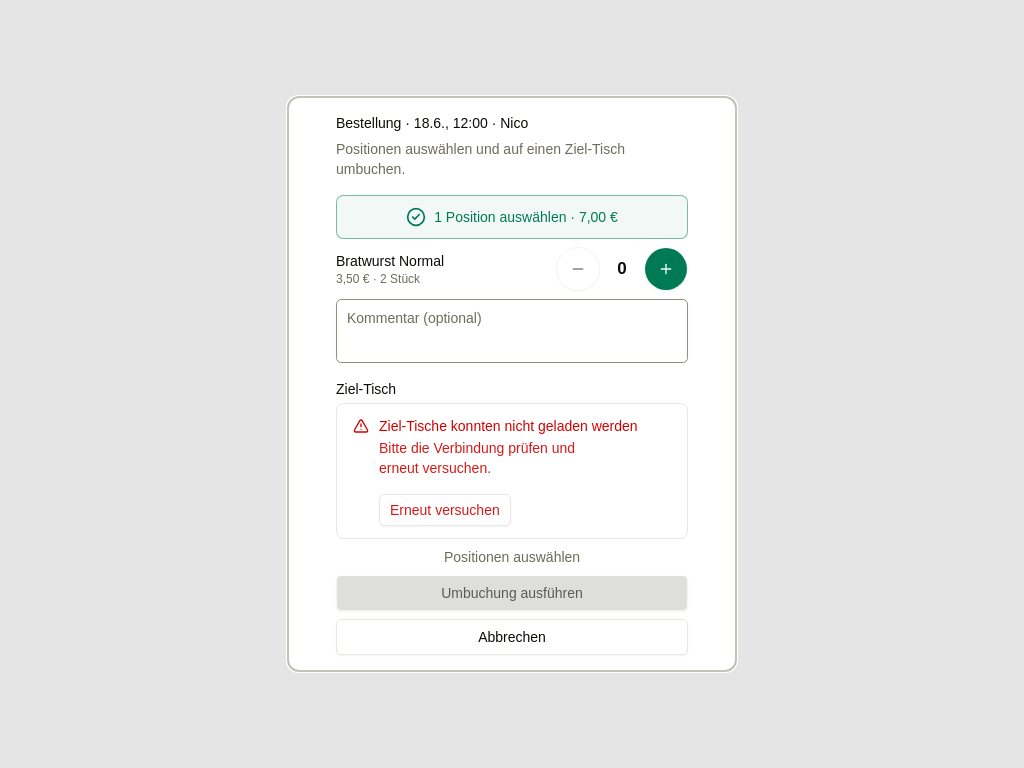
HistorieUmbuchungDrawer bei Ladefehler der Ziel-Tische › lädt die Ziel-Tische über „Erneut versuchen" neu
Click the button "Erneut versuchen" at (445,510), box x1=379 y1=494 x2=511 y2=526
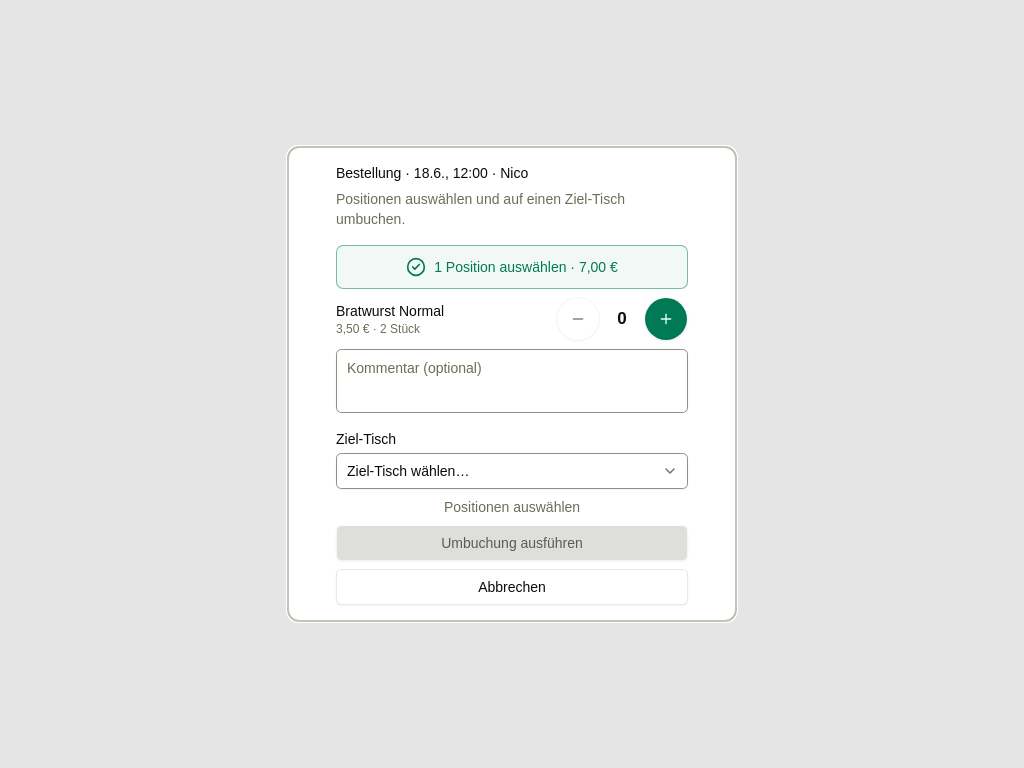
Expected: the text "Ziel-Tische konnten nicht geladen werden" is gone
